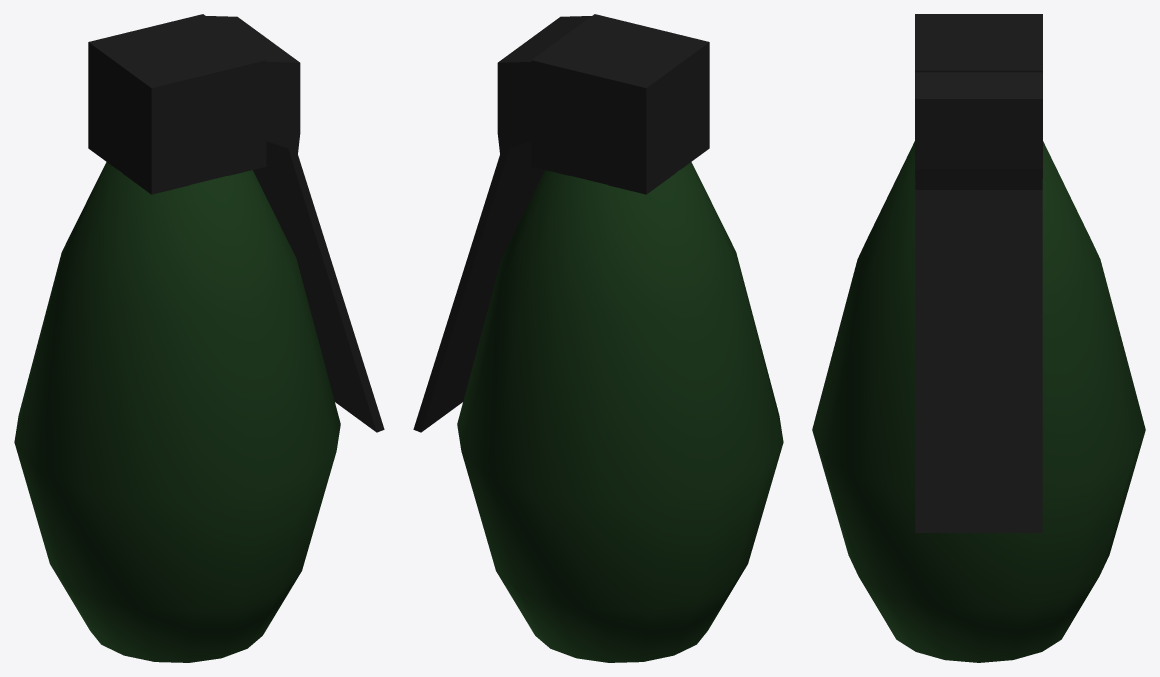
The model's file is frag_grenade.glb.
3 views of the same model, side by side, from view 1: azimuth 30°, elevation 25°; view 2: azimuth 150°, elevation 25°; view 3: azimuth 270°, elevation 25° (orthographic).
Visible parts, largest first — view 1: Cylinder, Cube; view 2: Cylinder, Cube; view 3: Cylinder, Cube.
Part boxes in pixels (left/top/right/bottom): Cylinder: left=14, top=162, right=340, bottom=662; Cube: left=88, top=14, right=384, bottom=432; Cylinder: left=457, top=162, right=783, bottom=662; Cube: left=413, top=14, right=709, bottom=432; Cylinder: left=812, top=141, right=1145, bottom=662; Cube: left=915, top=14, right=1042, bottom=532.
Size of the model in its own units: 0.0558 by 0.0963 by 0.05.
